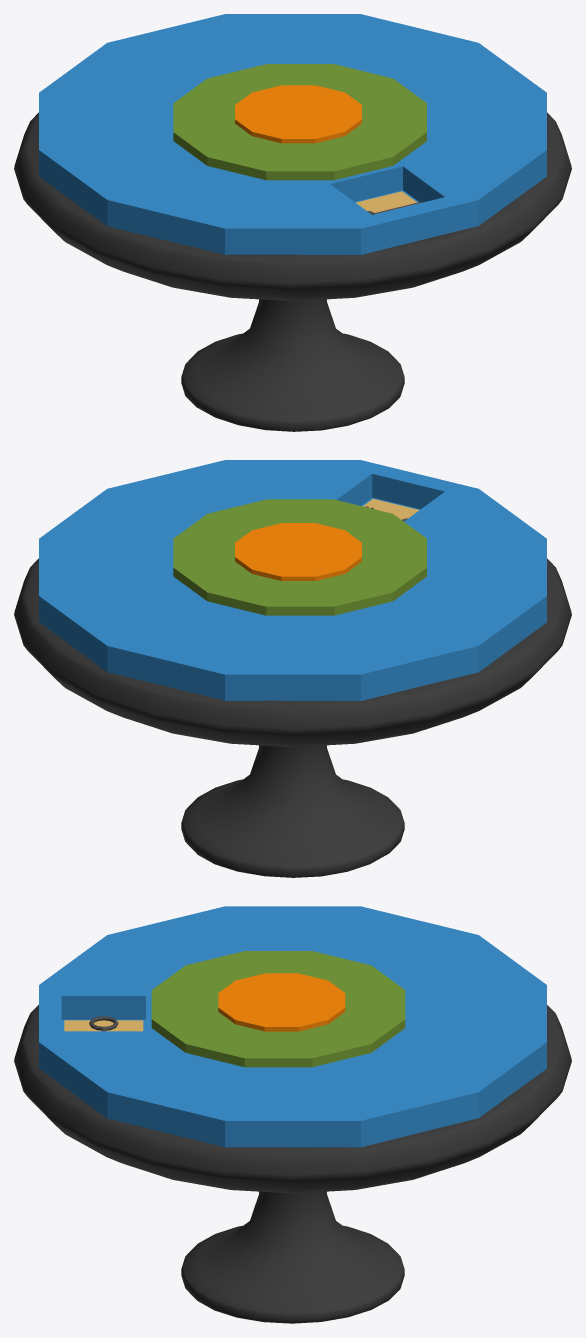
File: MecanismoDiscos.fbx
3 renders of one model, top to bottom at view 1: azimuth 30°, elevation 25°; view 2: azimuth 150°, elevation 25°; view 3: azimuth 270°, elevation 25°, orthographic.
Parts seen in each view (by area): view 1: MecanismoDiscos; view 2: MecanismoDiscos; view 3: MecanismoDiscos.
Part boxes in pixels (box(x1,y1,x2,y2)): MecanismoDiscos: box(14, 14, 571, 431); MecanismoDiscos: box(14, 460, 571, 877); MecanismoDiscos: box(14, 906, 571, 1323).
Bounding box in the file's own units: 106 × 58.23 × 106.
